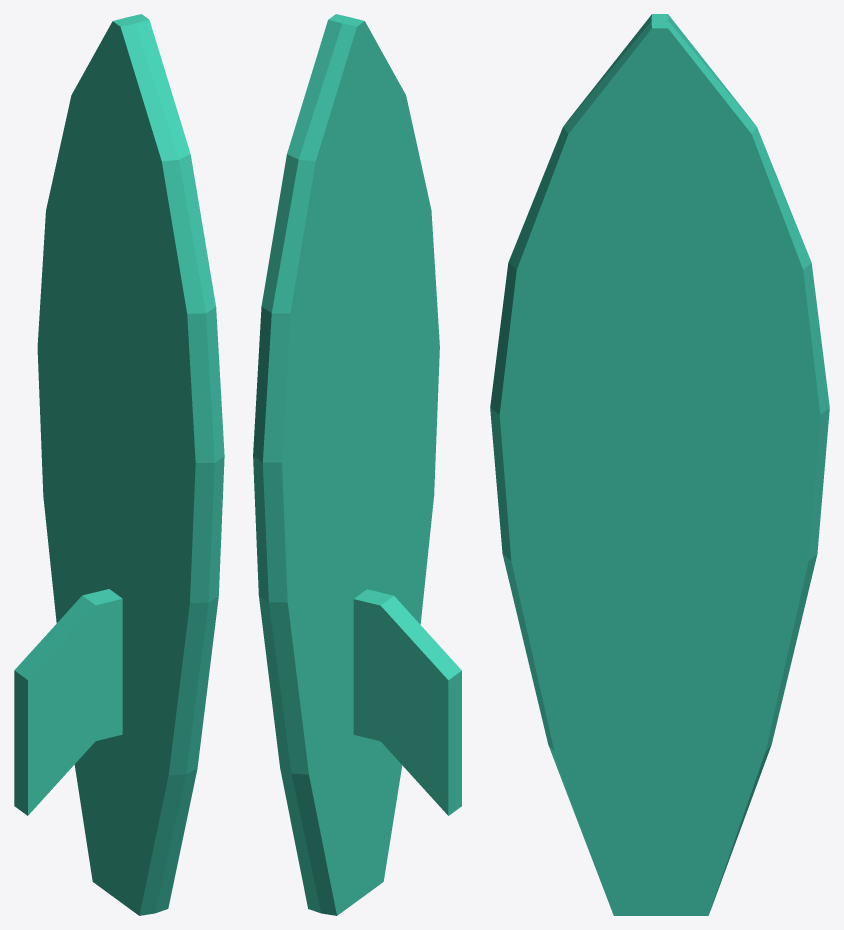
The model's file is Tabla de surf.fbx.
3 views of the same model, side by side, from view 1: azimuth 30°, elevation 25°; view 2: azimuth 150°, elevation 25°; view 3: azimuth 270°, elevation 25° (orthographic).
Parts seen in each view (by area): view 1: Cube; view 2: Cube; view 3: Cube.
Part boxes in pixels (left/top/right/bottom): Cube: left=14, top=14, right=224, bottom=915; Cube: left=253, top=14, right=461, bottom=915; Cube: left=490, top=14, right=829, bottom=915.
Bounding box in the file's own units: 144 × 971 × 337.
